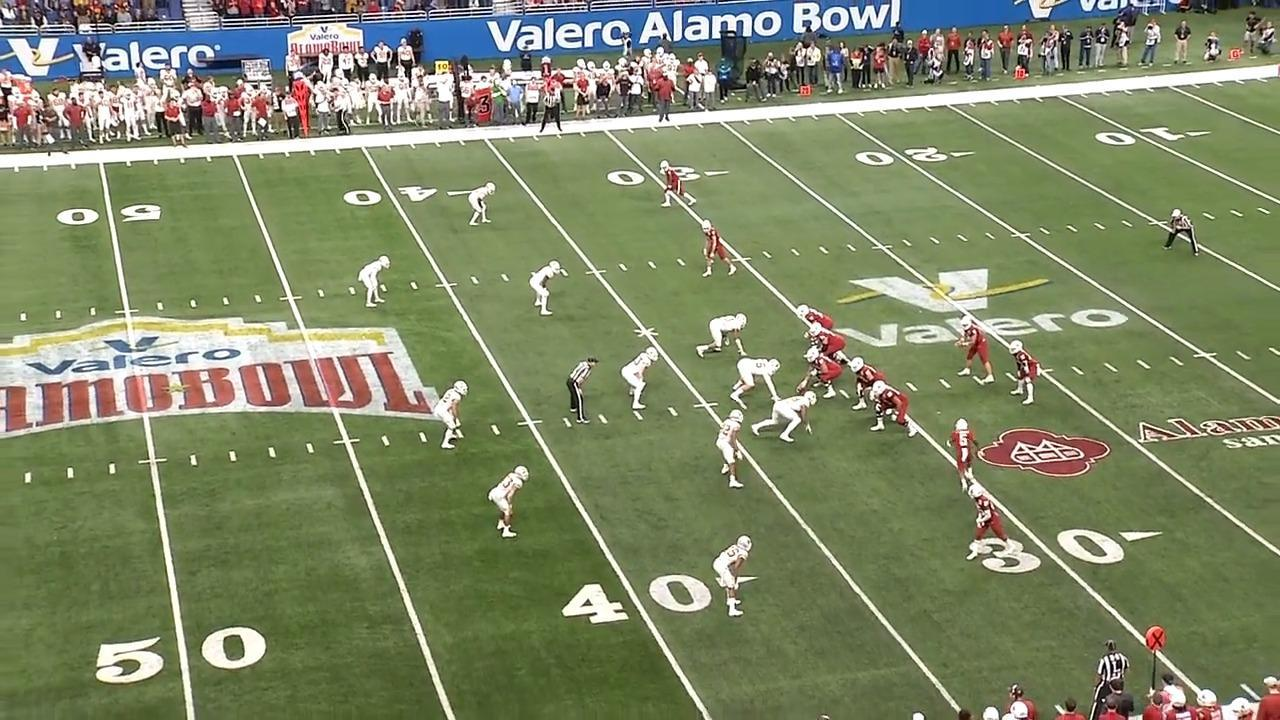player: (962, 482, 1017, 560), (713, 533, 757, 621), (753, 388, 820, 442), (487, 465, 528, 544), (871, 379, 921, 439), (714, 408, 748, 492), (727, 353, 780, 405), (697, 218, 740, 282), (433, 377, 469, 453), (694, 312, 749, 361), (960, 311, 995, 385), (621, 346, 659, 413), (658, 158, 701, 213), (797, 351, 843, 402), (847, 357, 885, 417), (530, 259, 566, 320), (1011, 339, 1042, 408), (951, 415, 979, 491), (357, 253, 393, 310), (809, 325, 851, 367), (796, 302, 835, 345), (468, 180, 500, 230)
ref: (1098, 637, 1132, 711), (565, 355, 596, 428), (1165, 206, 1203, 258), (540, 90, 566, 138)
